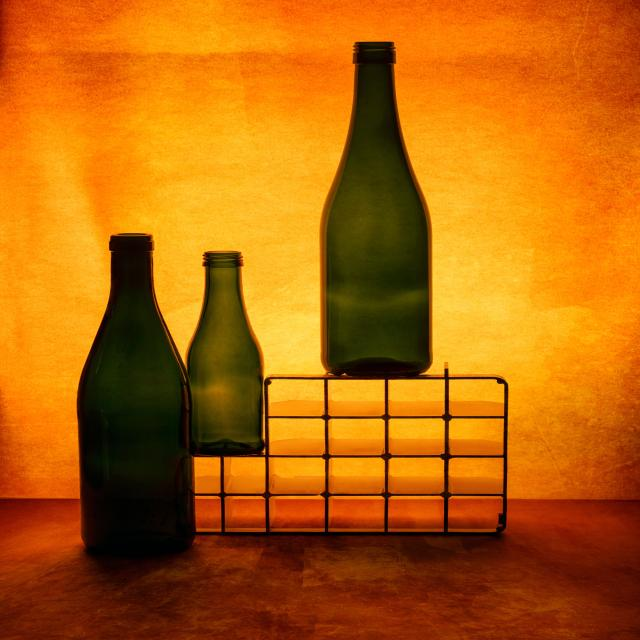Bottle: (78, 234, 195, 552), (321, 43, 432, 376), (187, 252, 264, 455)
